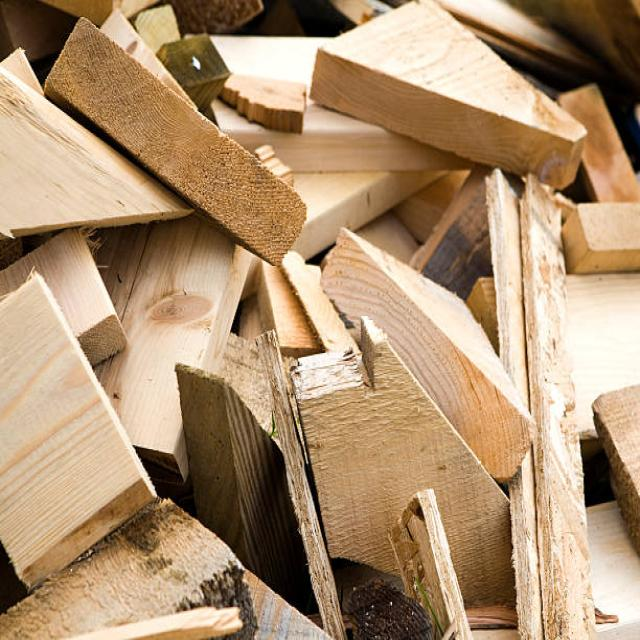cardboard: (4, 4, 633, 612)
